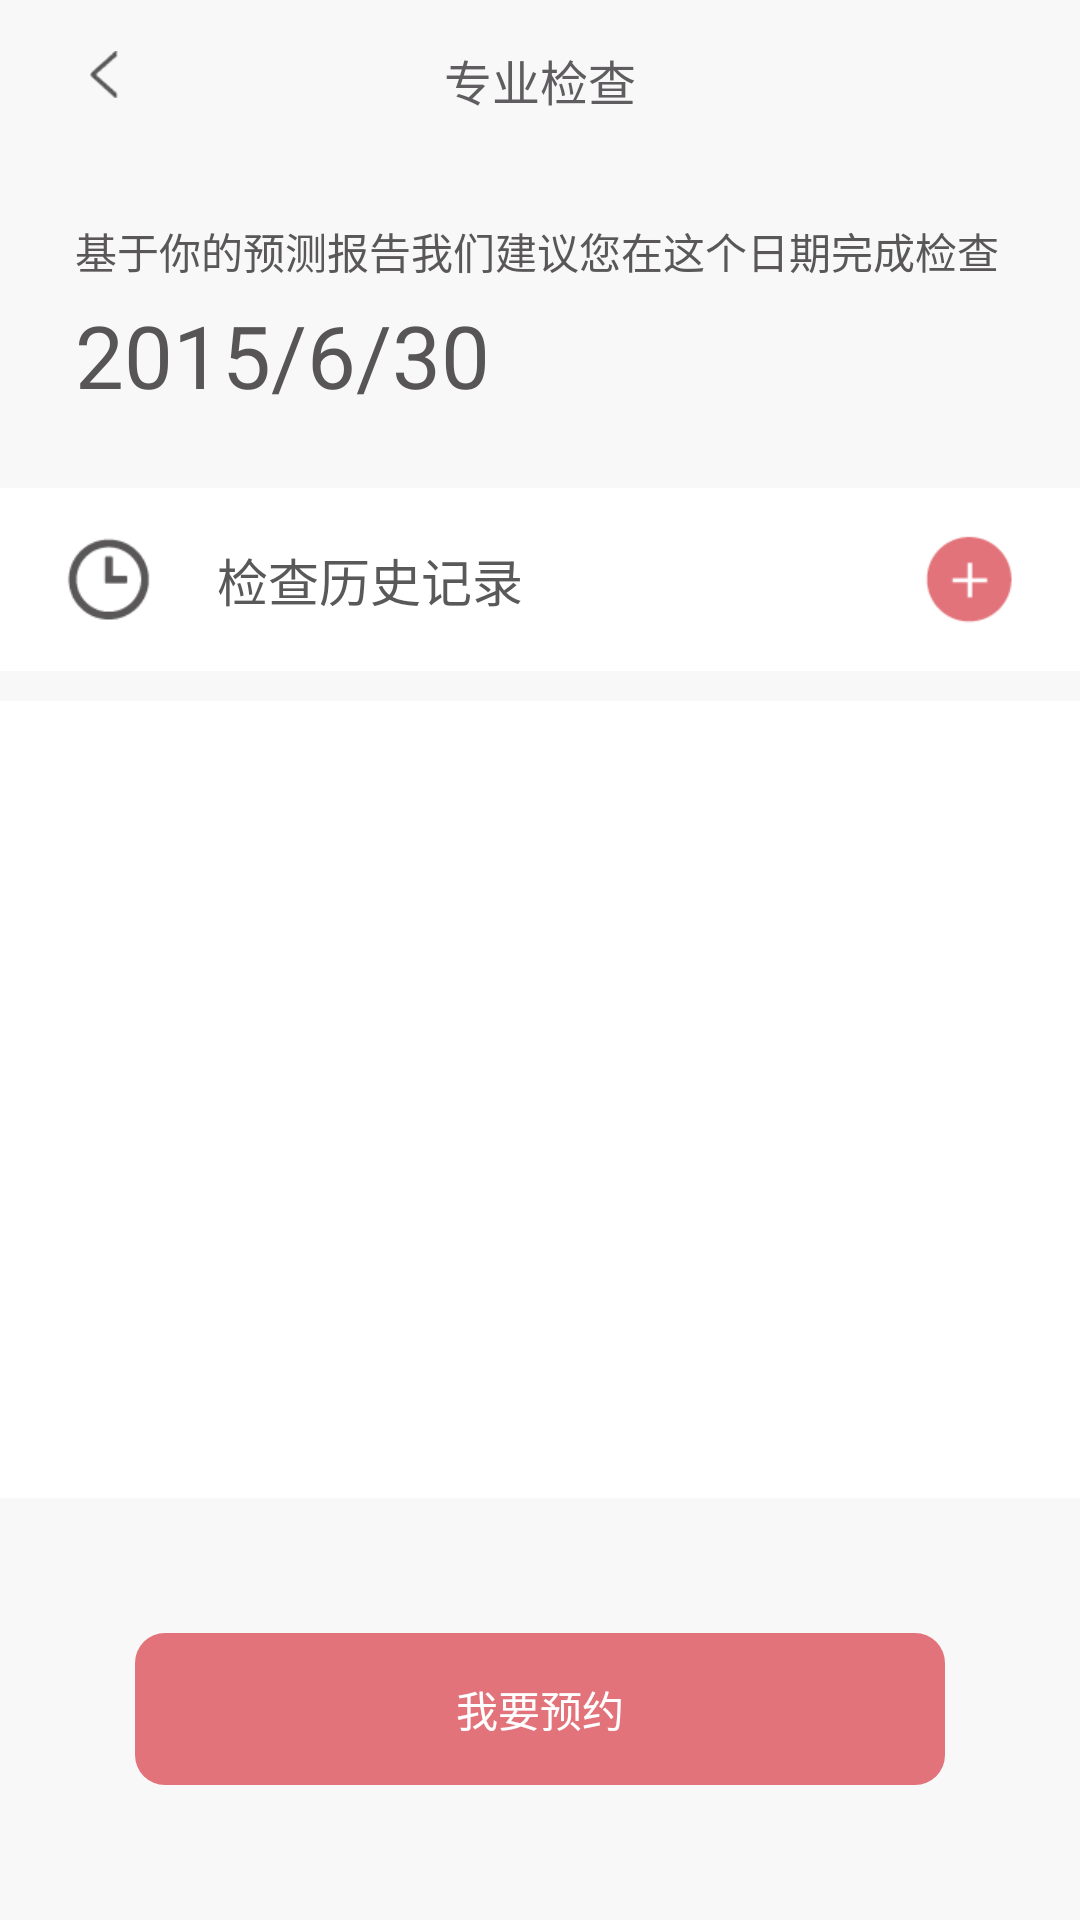

Screen size 1080*1920. Icon name, then its center in pixels as [x,y]:
inspection add: [969,579]
timeclock: [108,579]
